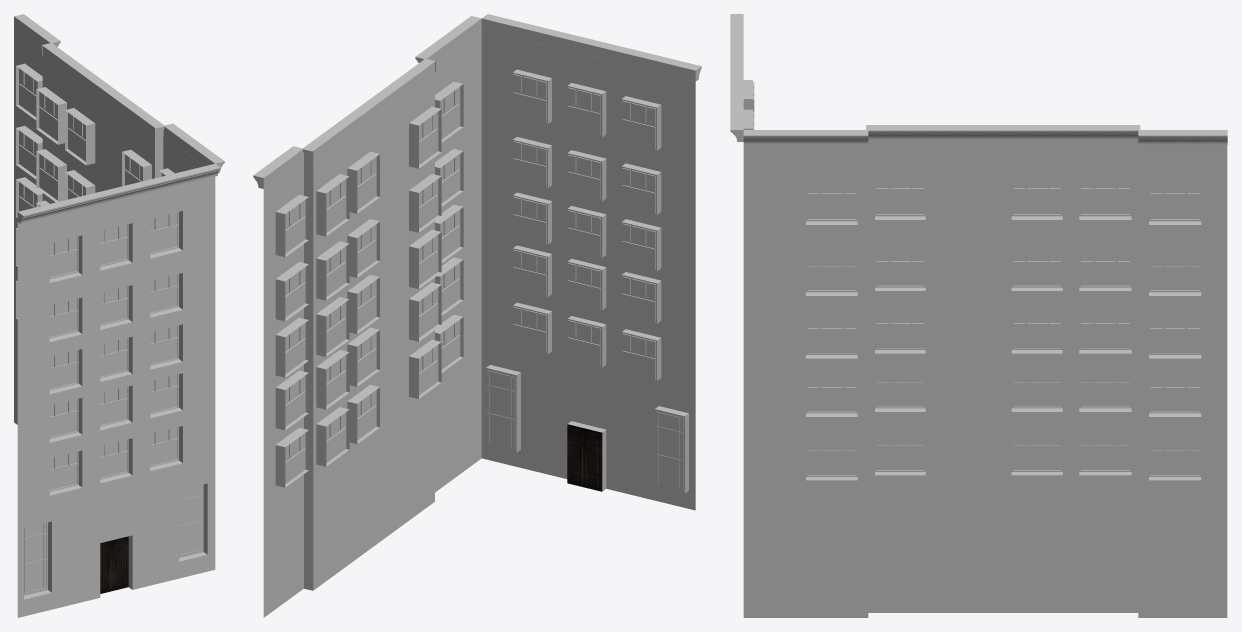
Rendered from Classic_house_02_sm.FBX.
3 renders of one model, left to right at view 1: azimuth 30°, elevation 25°; view 2: azimuth 150°, elevation 25°; view 3: azimuth 270°, elevation 25°, orthographic. The views are drawn at different scales.
Parts seen in each view (by area): view 1: Classic_house_02_sm_LOD0; view 2: Classic_house_02_sm_LOD0; view 3: Classic_house_02_sm_LOD0.
Part boxes in pixels (x1,y1,x2,y2): Classic_house_02_sm_LOD0: (14,14,224,617); Classic_house_02_sm_LOD0: (253,14,701,617); Classic_house_02_sm_LOD0: (730,14,1227,617).
Size of what is drawn, in the model's own units: 2729 by 4716 by 5109.
